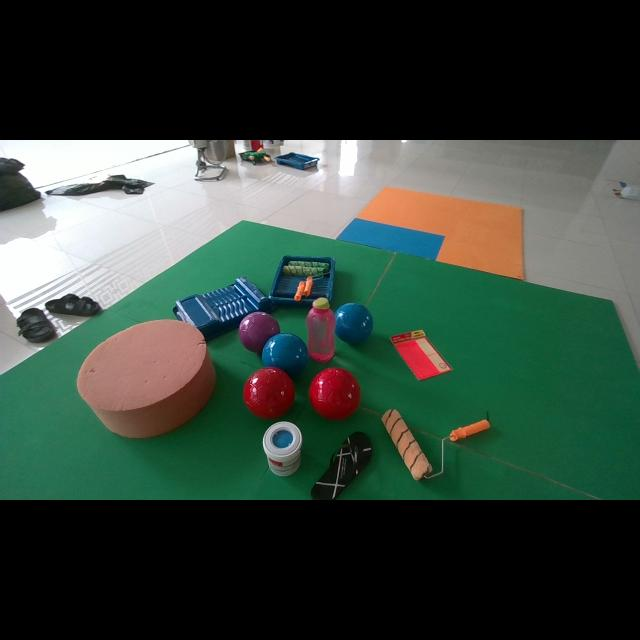B: (261, 332, 309, 376), (335, 302, 372, 343)
P: (239, 311, 280, 354)
